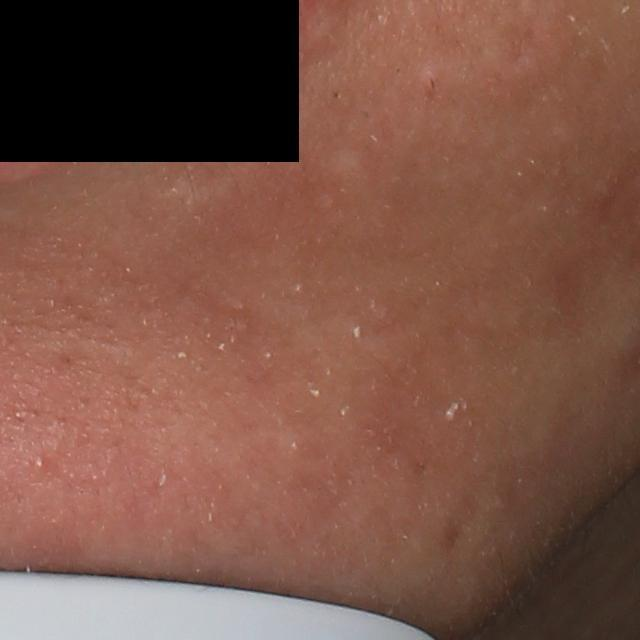comedo: (419, 68, 443, 94)
hypertrophic_scar: (327, 139, 376, 205)
